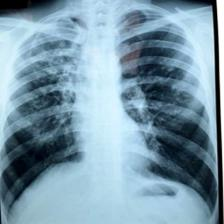tuberculosis: (0, 5, 218, 224)
